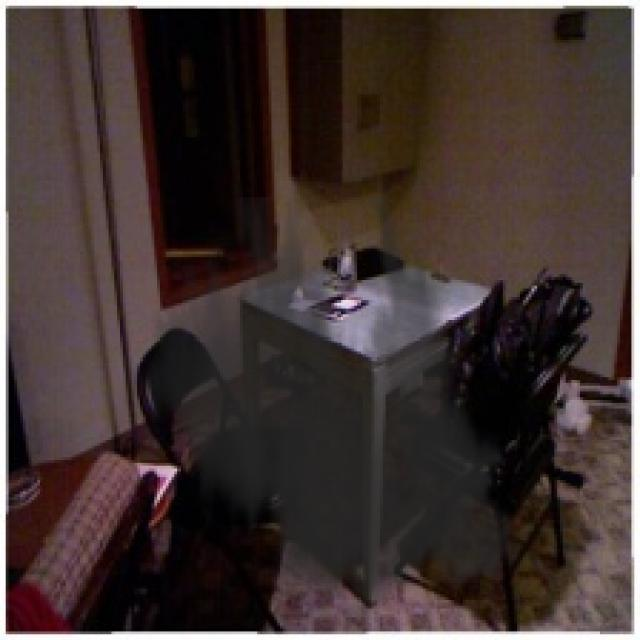Smoke: (132, 197, 532, 623)
